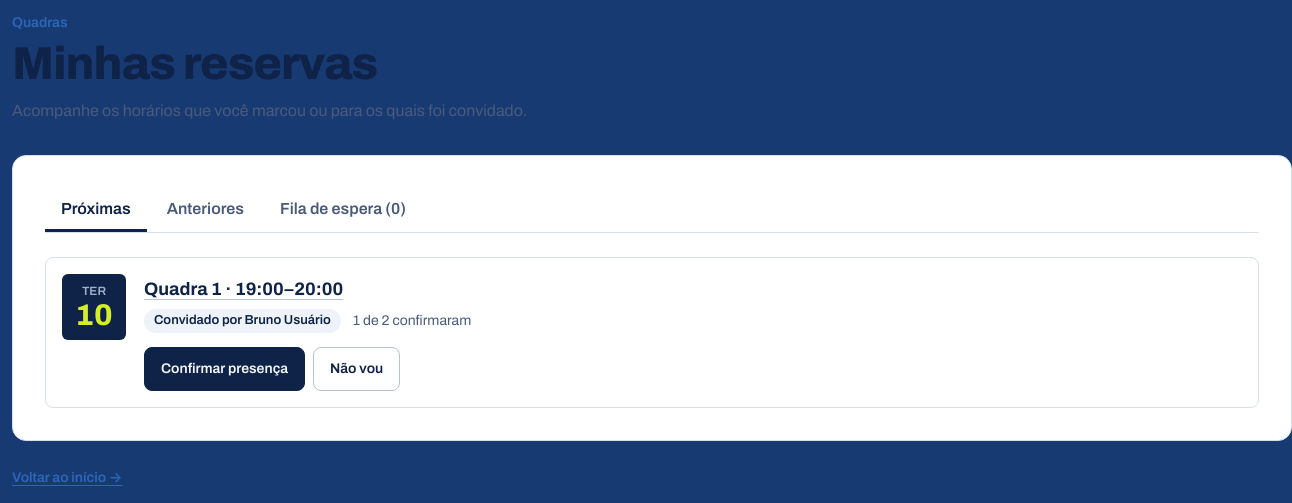
BookingsPage presença › responder e trocar de aba antes da resposta não sobrescreve Anteriores
The width and height of the screenshot is (1292, 503).
Click the button "Confirmar presença": (225, 369) [144,347,305,391]
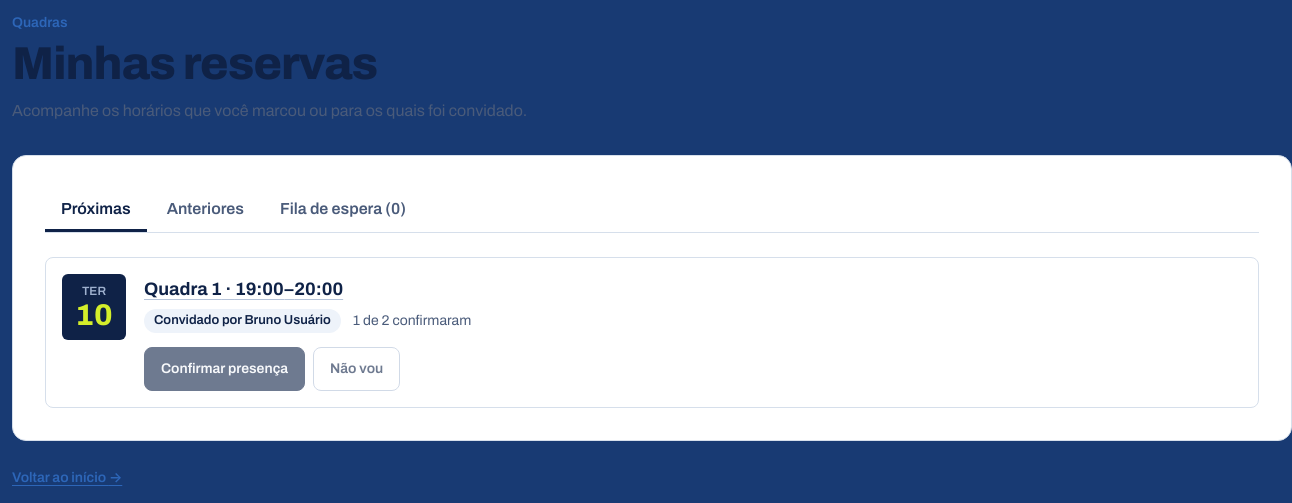
Click the tab "Anteriores": (205, 210) [151,188,260,232]
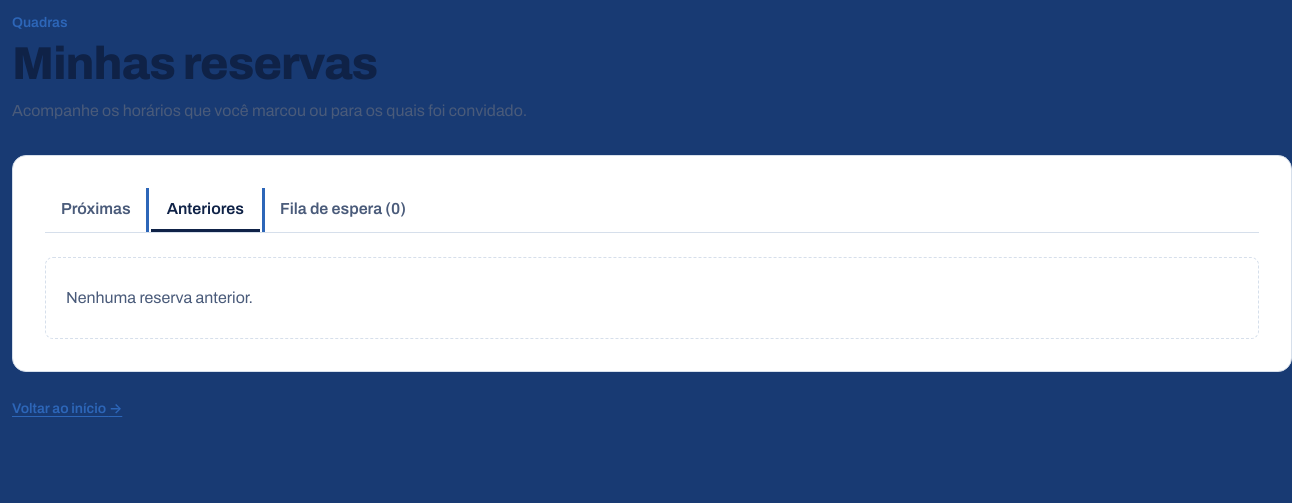
Now the text "Nenhuma reserva anterior." is shown, box [66,286,253,310]
